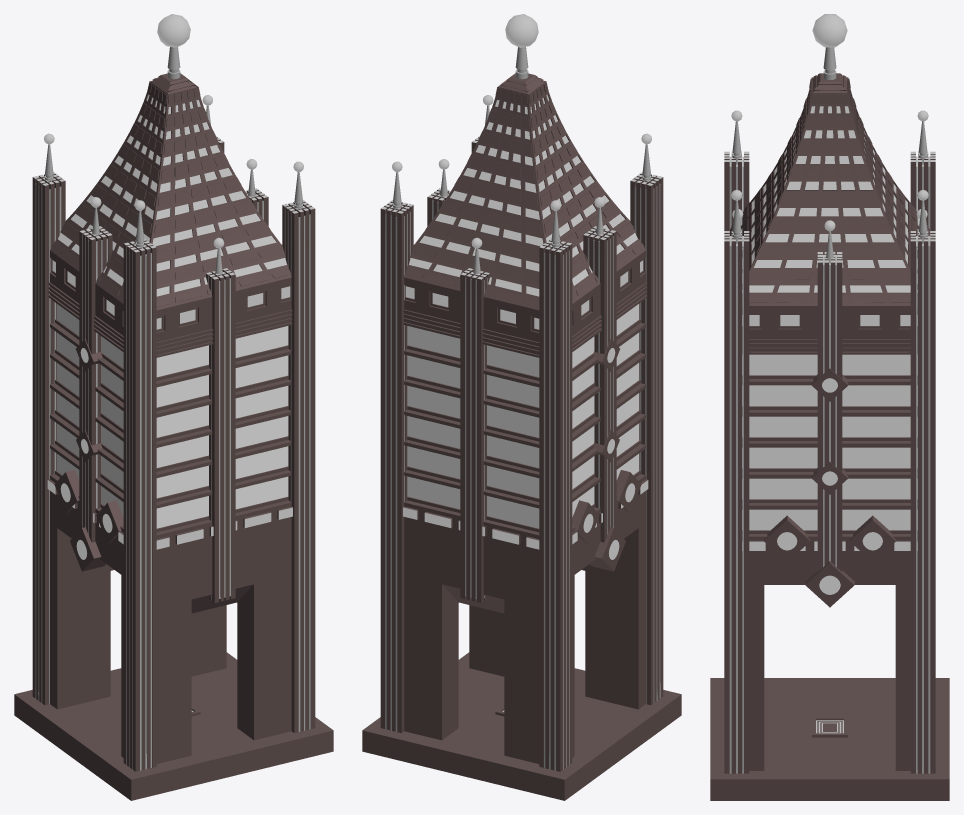
The model's file is t_ams.glb.
The picture shows the model from 3 angles, left to right: view 1: azimuth 30°, elevation 25°; view 2: azimuth 150°, elevation 25°; view 3: azimuth 270°, elevation 25°; orthographic projection. The views are drawn at different scales.
Parts seen in each view (by area): view 1: S2; view 2: S2; view 3: S2.
Boxes of the visible parts, <box> form: S2: <box>14,14,333,800</box>; S2: <box>362,14,681,800</box>; S2: <box>710,14,949,800</box>.
Bounding box in the file's own units: 2 × 6.78 × 2.
4 materials, 3 textured.
